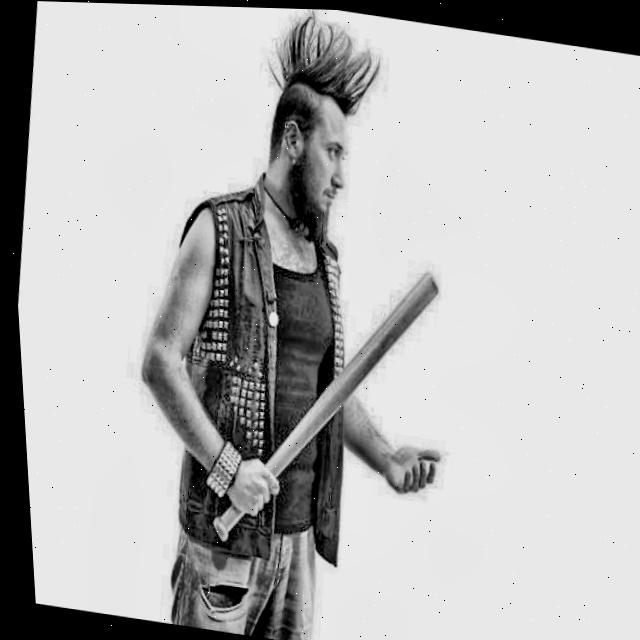tongkat pemukul: (202, 262, 448, 549)
